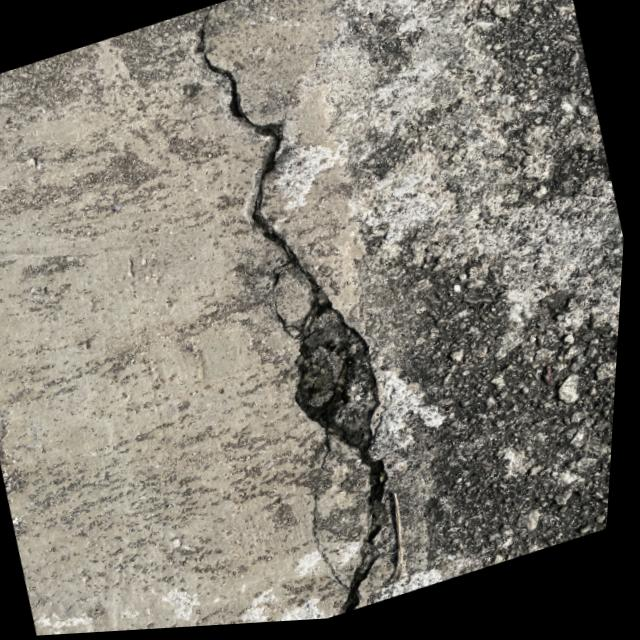Crack: (150, 0, 458, 631)
